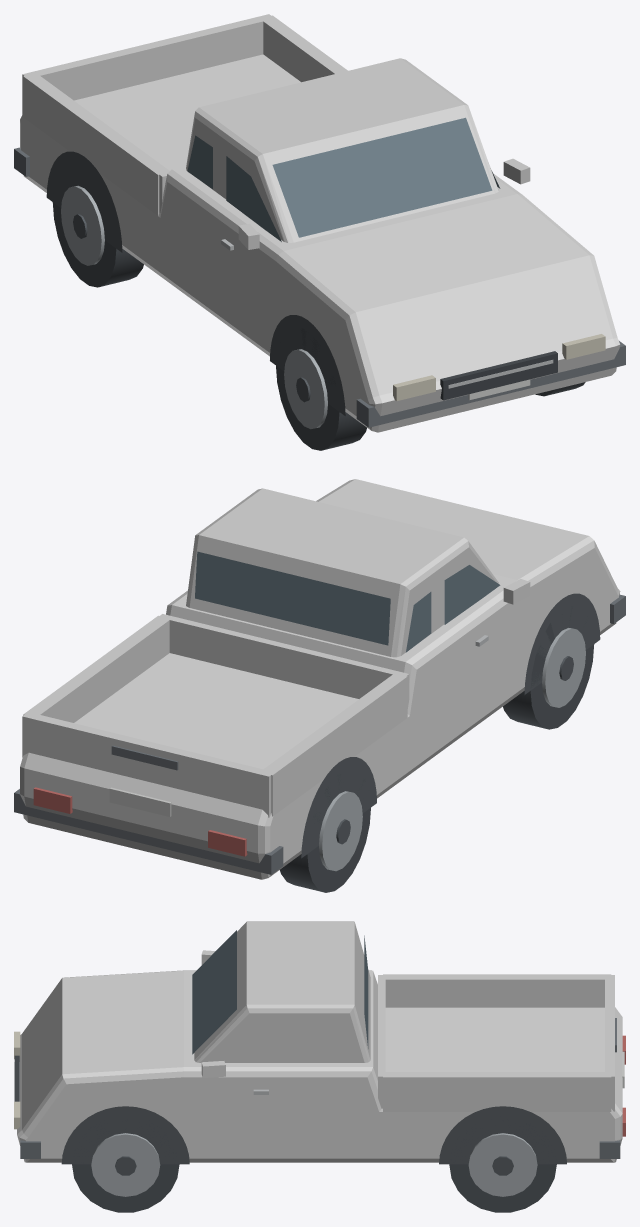
Rendered from pickup.glb.
3 views of the same model, one above another, from view 1: azimuth 30°, elevation 25°; view 2: azimuth 150°, elevation 25°; view 3: azimuth 270°, elevation 25° (orthographic). The views are drawn at different scales.
Visible parts, largest first — view 1: pickup; view 2: pickup; view 3: pickup.
Part boxes in pixels (<box>): pickup: <box>14,14,625,450</box>; pickup: <box>14,479,625,892</box>; pickup: <box>14,921,625,1212</box>.
Size of the model in its own units: 2.15 by 1.7 by 4.78.
